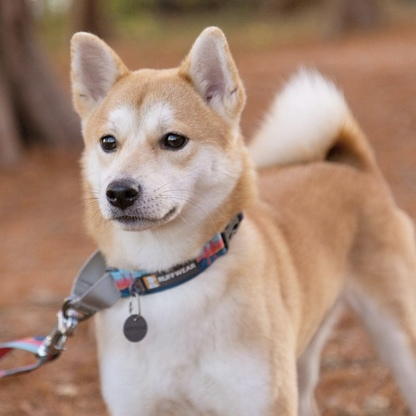shiba: (49, 14, 412, 416)
